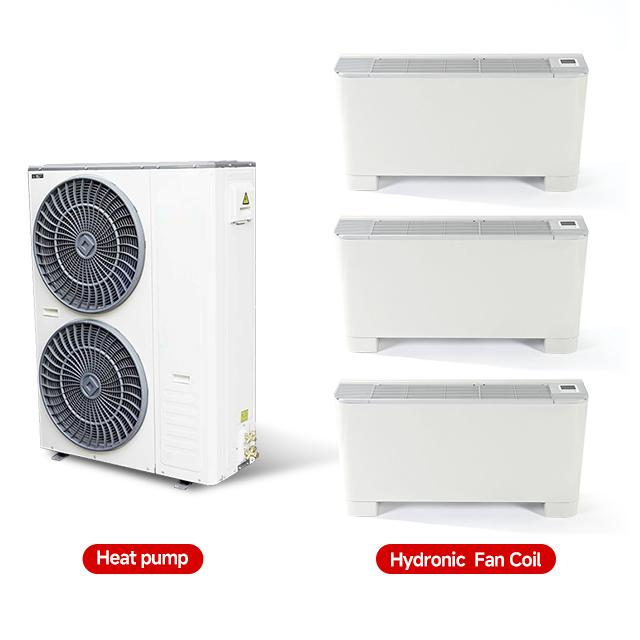appliances: (28, 161, 256, 483), (336, 216, 587, 352), (336, 380, 587, 515), (336, 55, 587, 190)
